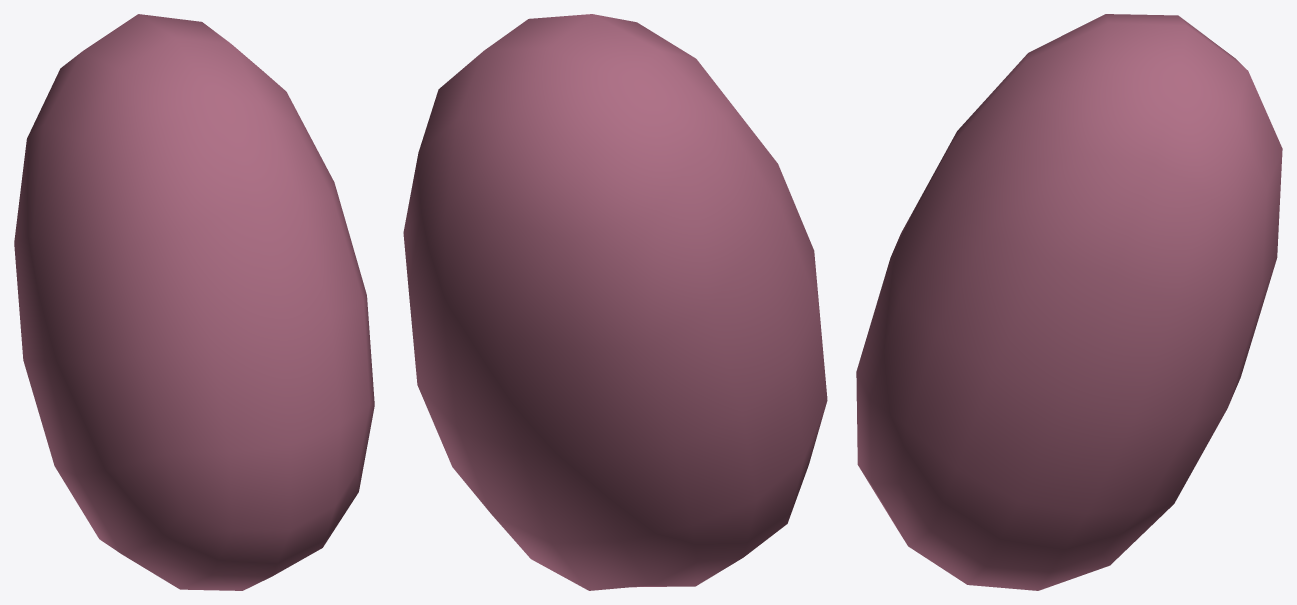
File: nose2.fbx
3 renders of one model, left to right at view 1: azimuth 30°, elevation 25°; view 2: azimuth 150°, elevation 25°; view 3: azimuth 270°, elevation 25°, orthographic. The views are drawn at different scales.
Parts seen in each view (by area): view 1: nose2; view 2: nose2; view 3: nose2.
Boxes of the visible parts, x1,y1,x2,y2 form: nose2: [14, 14, 374, 590]; nose2: [403, 14, 827, 590]; nose2: [856, 14, 1282, 590].
Size of the model in its own units: 4.23 by 6.91 by 4.82.
